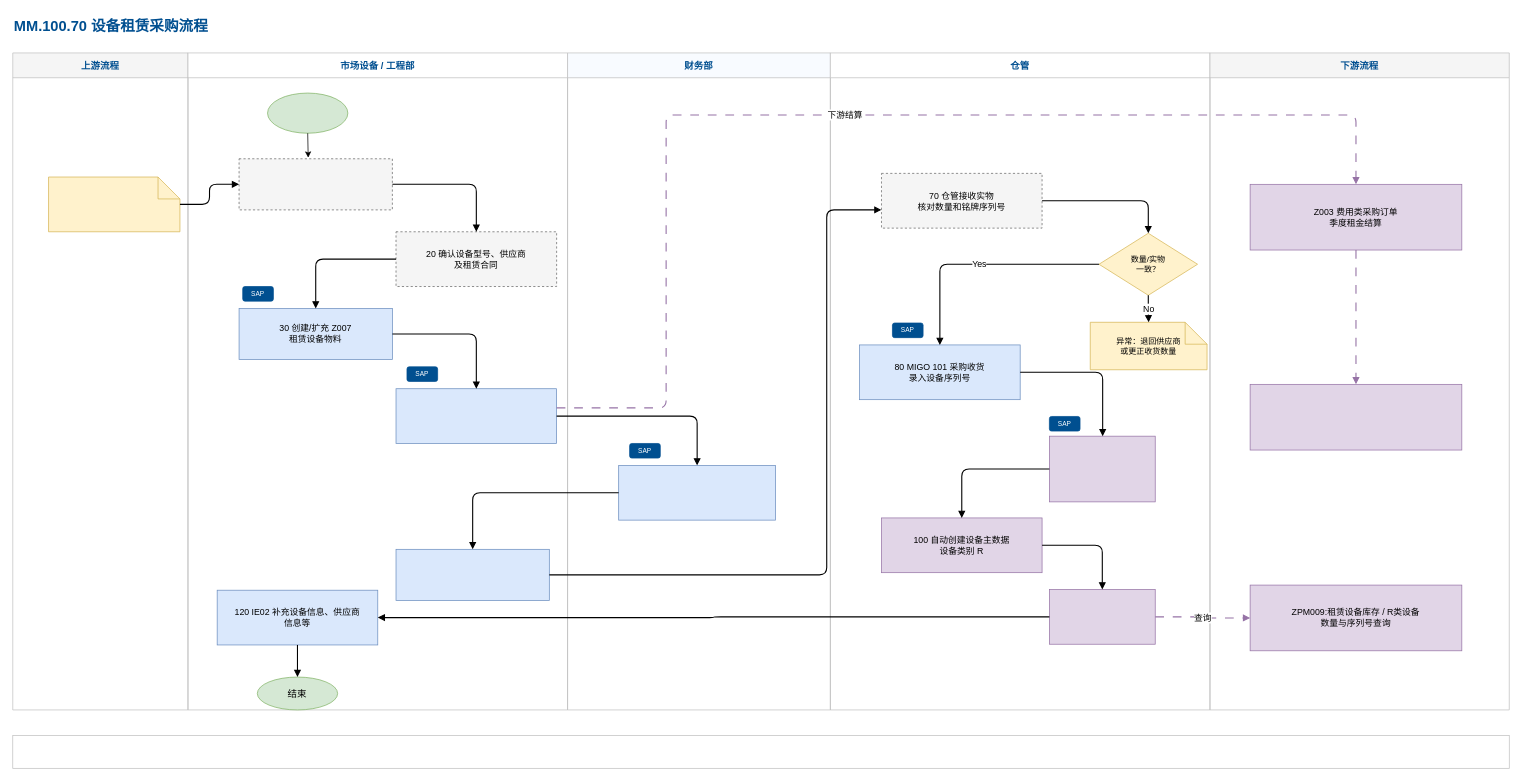
Image size: 1522x781. Some labels were removed from this diagram. The centre of each missing label's shape, as x and y in pixels:
10 接收市场设备 租赁采购需求: point 315,184
110 设备绑定物料号 +序列号: point 1102,616
40 手工创建 Z014 市场设备租赁采购订单: point 476,415
50 确认免费项目、净价0 收货开启、发票关闭: point 697,492
60 采购订单下达 通知供应商送货: point 472,574
90 ZPM4 序列号校验 序列号数量必须一致: point 1102,468
图例：绿色=开始/结束；蓝色=SAP活动；灰色虚线=线下活动；黄色=判断/审批；紫色=自动处理/子流程；虚线连接=下游关联: point 760,751
开始: point 307,112
租赁合同 与设备需求: point 114,204
采购发票校验流程 Z003发票校验及付款: point 1355,417
